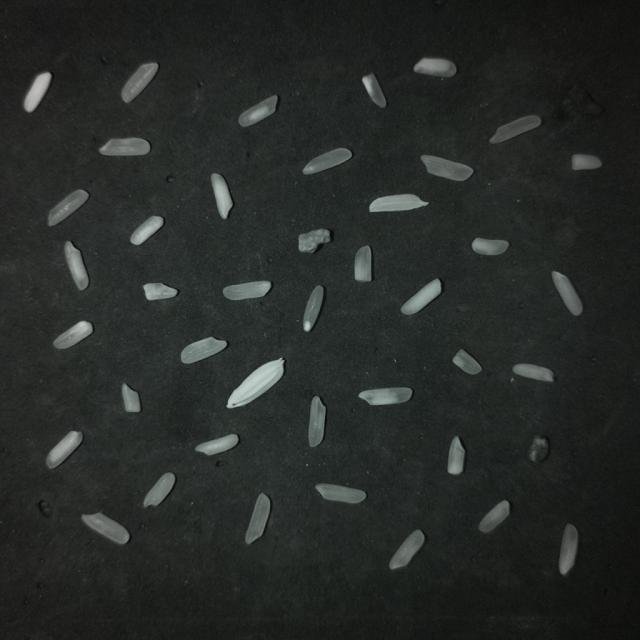broken: (143, 473, 174, 507), (478, 500, 509, 533), (361, 74, 385, 108), (451, 349, 480, 374), (121, 384, 140, 412)
chalky: (401, 279, 440, 314), (551, 272, 582, 316), (46, 431, 82, 468), (238, 95, 277, 127), (63, 241, 87, 290), (23, 72, 51, 113), (53, 321, 92, 349), (210, 174, 232, 219), (558, 524, 577, 575), (130, 216, 163, 245), (358, 388, 412, 405), (222, 281, 270, 300), (195, 434, 237, 455), (413, 58, 455, 77), (511, 364, 553, 382), (447, 437, 464, 474), (471, 238, 508, 255), (354, 246, 371, 281), (143, 283, 177, 300), (571, 154, 600, 169)
foreign: (226, 359, 283, 408), (369, 194, 427, 212), (298, 229, 330, 253), (527, 437, 548, 462)
whole: (81, 513, 129, 544), (47, 190, 88, 226), (121, 63, 157, 103), (489, 115, 540, 143), (388, 530, 424, 569), (420, 155, 472, 181), (302, 148, 351, 174), (180, 337, 226, 364), (245, 494, 269, 544), (315, 484, 365, 503), (99, 138, 149, 156), (303, 285, 322, 331), (308, 396, 325, 447)
